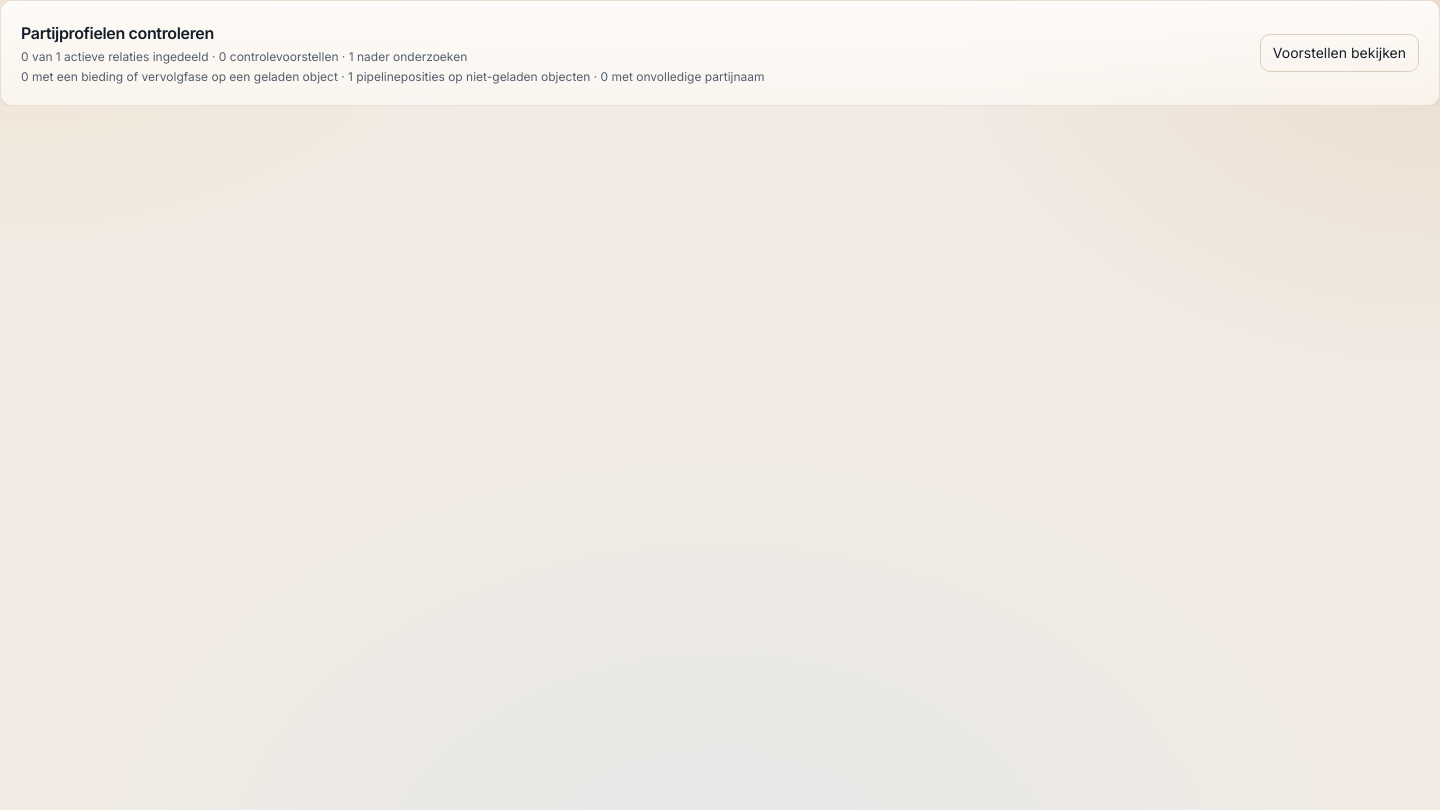
Test: A15 CRM read-only review UI › A15.8 maakt oude kandidaatpositie zonder geladen object apart zichtbaar
Expected: the text "1 pipelineposities op niet-geladen objecten" is shown, [21,69,765,85]
Click the button "Voorstellen bekijken".
click(1339, 53)  # box [1260,34,1419,72]
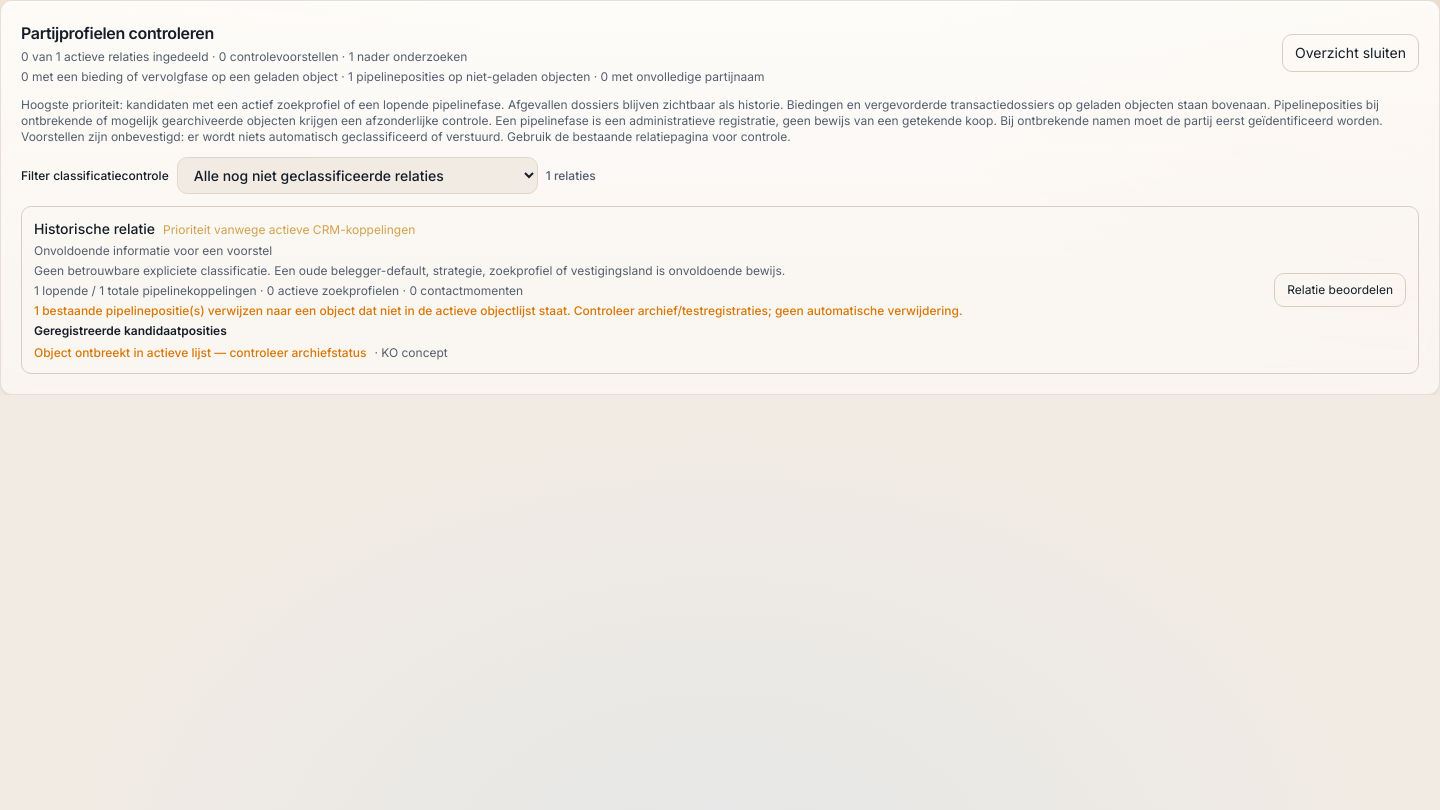
Select "Niet-geladen objecten (archiefcontrole)" in the dropdown labelled "Filter classificatiecontrole" at (357,176), box [177,157,538,194]
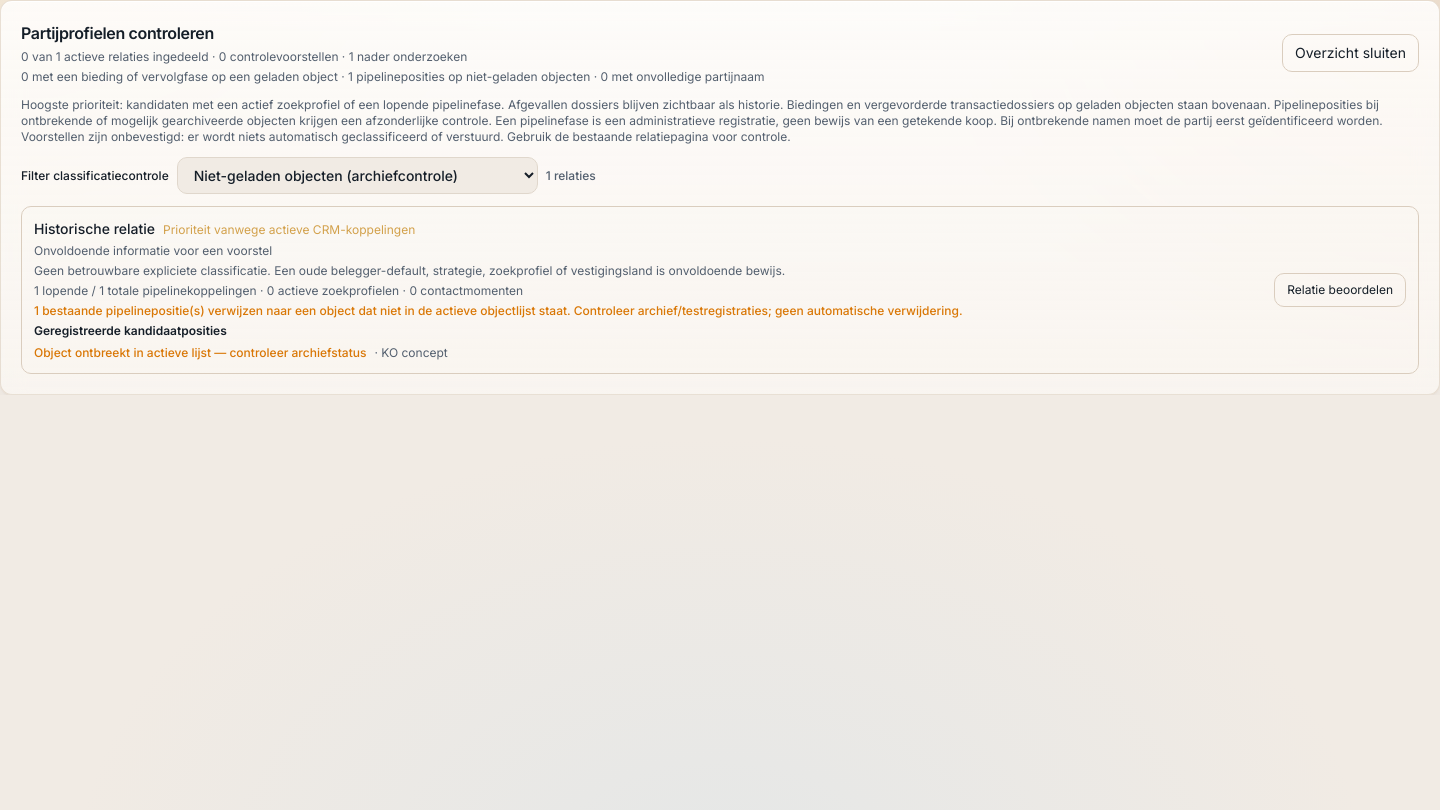
Result: the text "Historische relatie" is shown at [34,220,155,237]
Result: the text "Object ontbreekt in actieve lijst — controleer archiefstatus" is shown at [34,345,366,361]
Result: the text "geen automatische verwijdering" is shown at [39,303,963,318]
Select "Geregistreerd bod of vervolgfase" in the dropdown labelled "Filter classificatiecontrole" at (357,176), box [177,157,538,194]
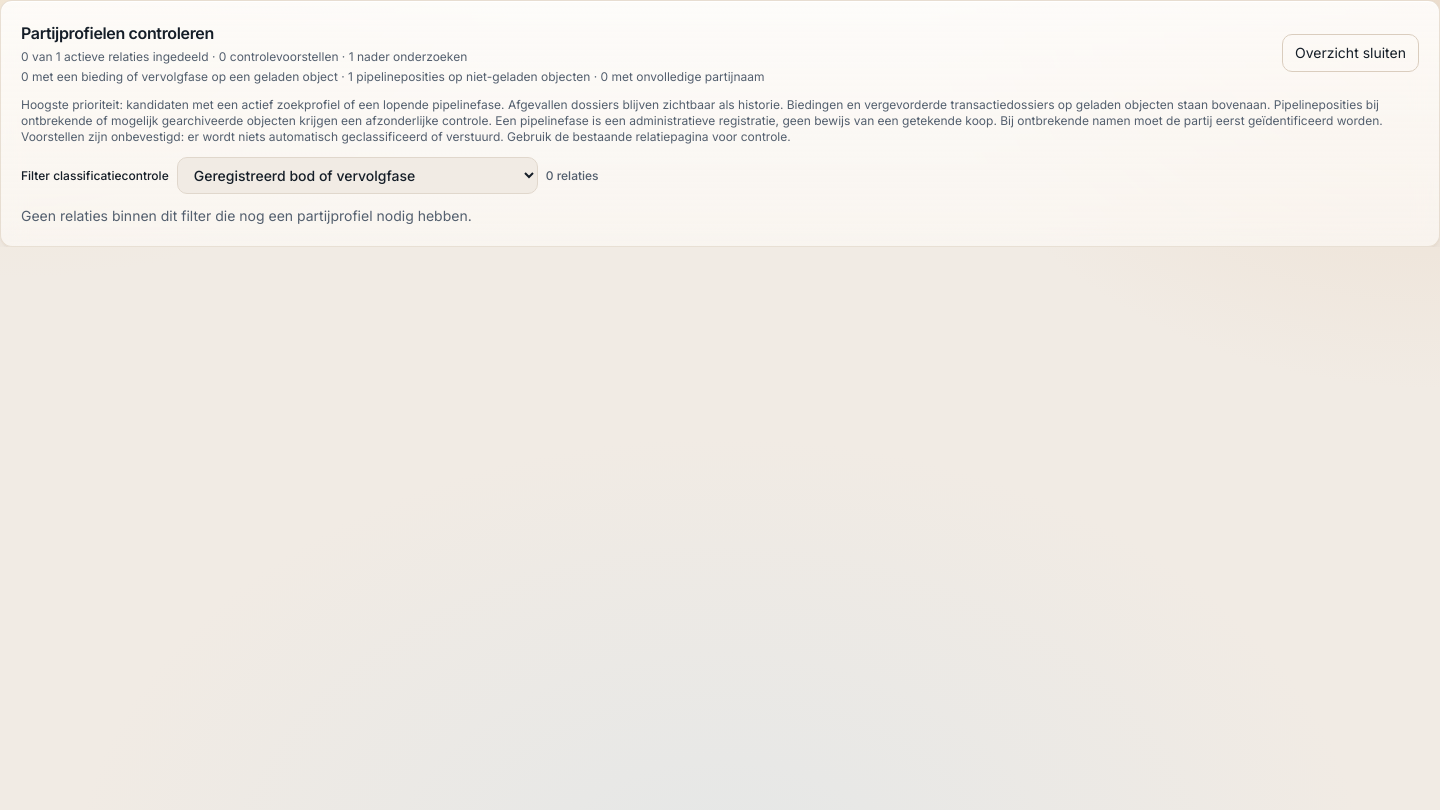
Result: the text "Historische relatie" is gone
